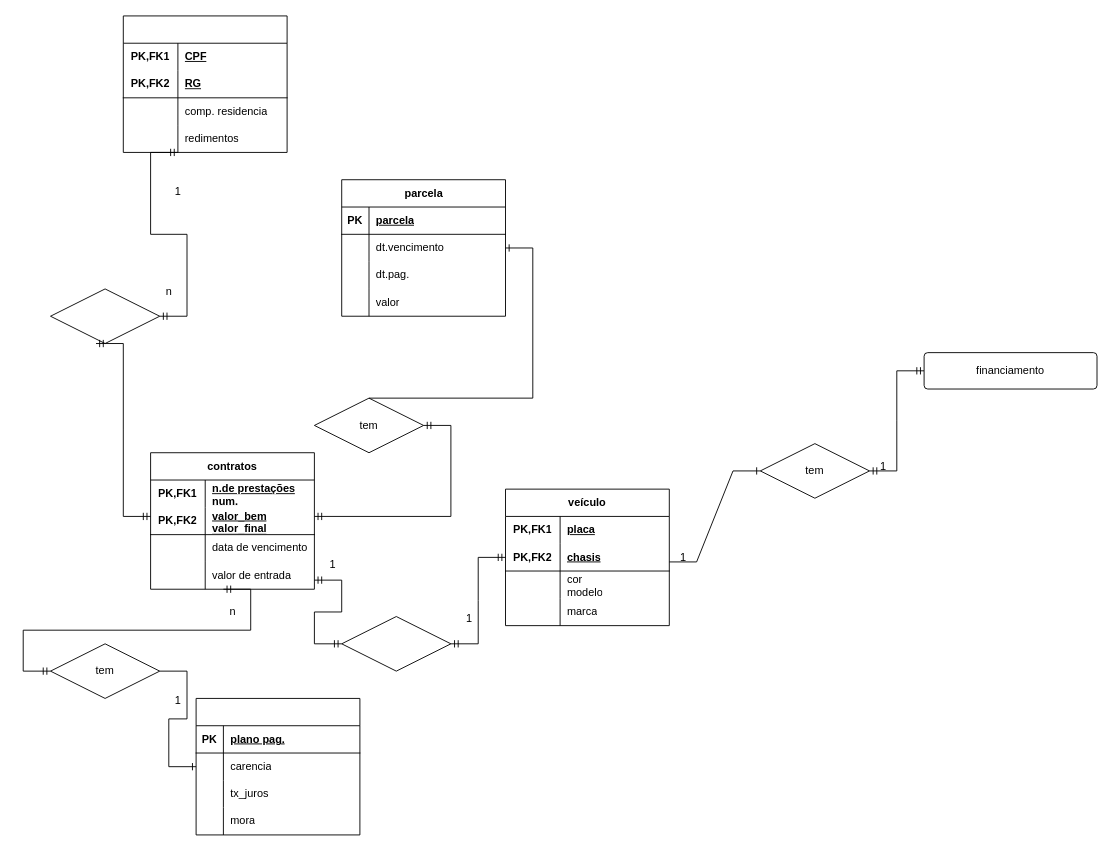
This 1113x851 diagram has some shape labels left out. Each missing label, with the box of its shape:
cliente: (122, 15, 287, 152)
pertence: (341, 616, 451, 671)
plano de pagamento: (195, 698, 360, 835)
realiza: (50, 288, 160, 344)
